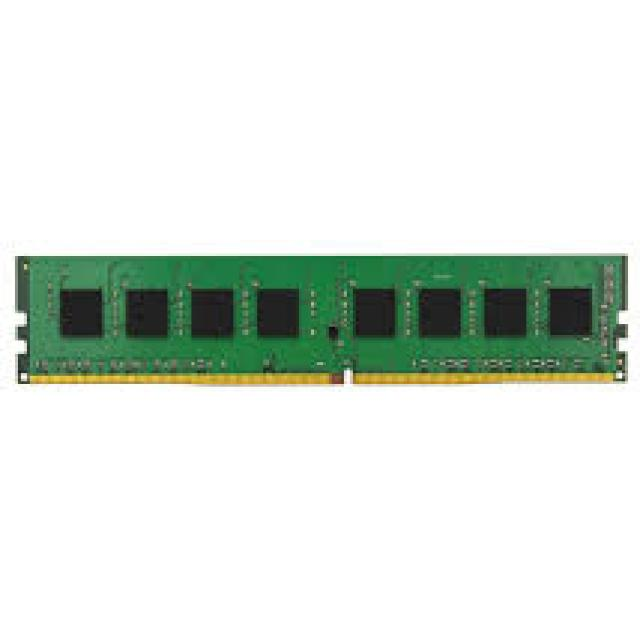Ram: (19, 70, 640, 508)
